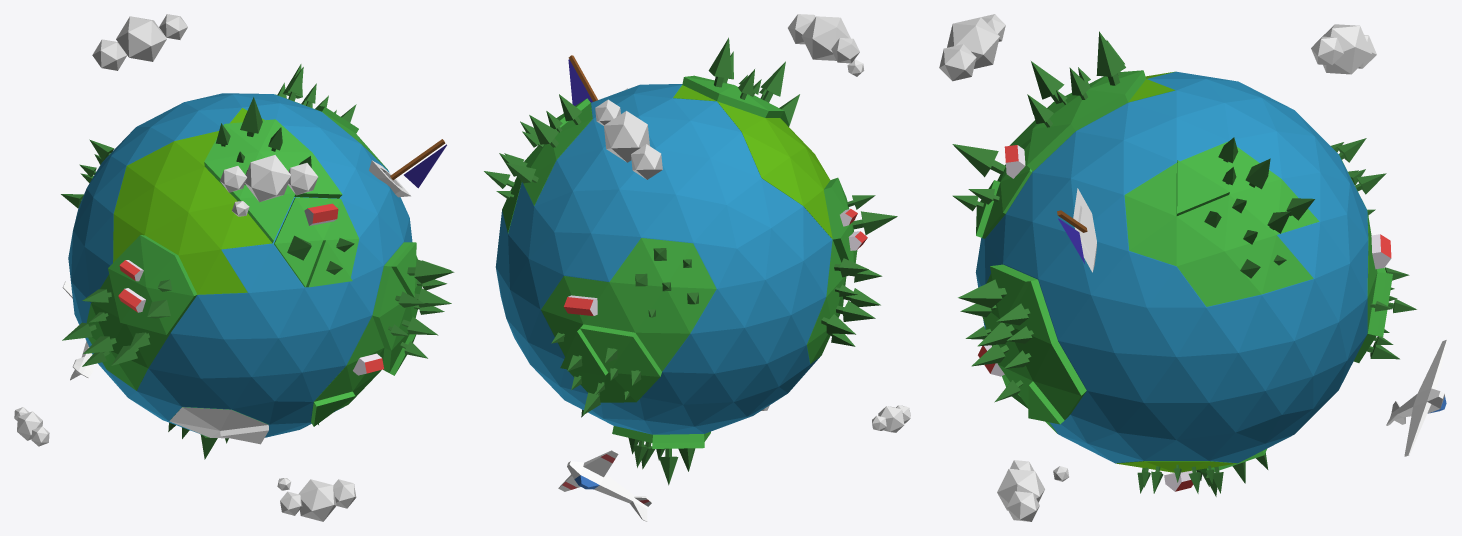
Rendered from earth.gltf.
3 views of the same model, side by side, from view 1: azimuth 30°, elevation 25°; view 2: azimuth 150°, elevation 25°; view 3: azimuth 270°, elevation 25° (orthographic). The views are drawn at different scales.
Parts seen in each view (by area): view 1: Agua.001, Tierra, Icosphere.002, Icosphere.003, Icosphere.004, Barco.001, Icosphere.015, Plane.058, Plane.056, Avión, Plane.087; view 2: Agua.001, Tierra, Icosphere.002, Icosphere.003, Avión, Icosphere.015, Barco.001, Plane.087, Plane.053, Plane.127, Plane.145; view 3: Agua.001, Tierra, Icosphere.003, Icosphere.002, Avión, Icosphere.004, Barco.001, Plane.087, Plane.121, Plane.058, Plane.145, Plane.053.
Part boxes in pixels (<box>): Agua.001: <box>68,93,412,437</box>; Tierra: <box>86,94,421,444</box>; Icosphere.002: <box>92,14,187,70</box>; Icosphere.003: <box>220,155,318,202</box>; Icosphere.004: <box>280,479,356,521</box>; Barco.001: <box>369,139,446,197</box>; Icosphere.015: <box>14,407,49,446</box>; Plane.058: <box>407,259,454,283</box>; Plane.056: <box>304,203,338,225</box>; Avión: <box>62,281,93,380</box>; Plane.087: <box>240,97,262,136</box>; Agua.001: <box>495,84,832,434</box>; Tierra: <box>502,75,857,448</box>; Icosphere.002: <box>595,99,662,179</box>; Icosphere.003: <box>788,14,859,63</box>; Avión: <box>558,450,652,521</box>; Icosphere.015: <box>872,405,910,432</box>; Barco.001: <box>568,55,627,105</box>; Plane.087: <box>708,37,732,87</box>; Plane.053: <box>564,295,597,315</box>; Plane.127: <box>852,211,897,234</box>; Plane.145: <box>760,61,785,102</box>; Agua.001: <box>975,71,1368,463</box>; Tierra: <box>976,70,1392,473</box>; Icosphere.003: <box>939,14,1005,81</box>; Icosphere.002: <box>1311,24,1376,74</box>; Avión: <box>1386,339,1447,456</box>; Icosphere.004: <box>997,460,1044,521</box>; Barco.001: <box>1057,188,1096,272</box>; Plane.087: <box>1096,31,1125,85</box>; Plane.121: <box>952,144,1005,177</box>; Plane.058: <box>958,279,1006,308</box>; Plane.145: <box>1031,61,1064,103</box>; Plane.053: <box>1371,234,1391,269</box>.
Bounding box in the file's own units: 2.59 × 2.65 × 2.61.
